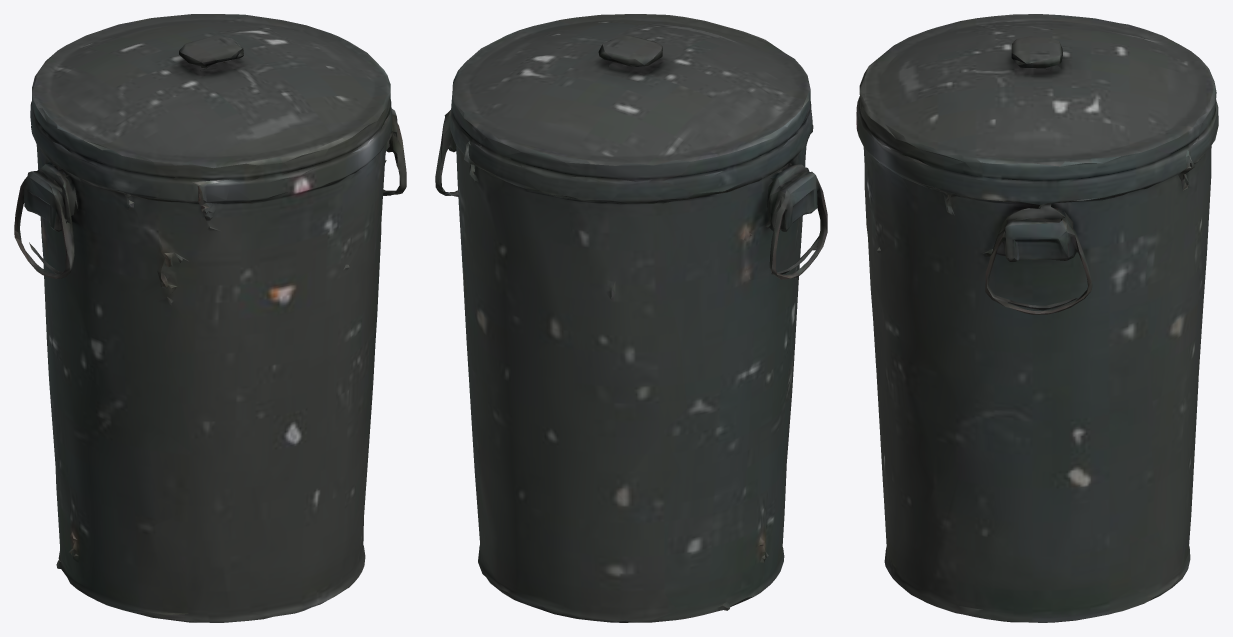
Rendered from street_trash_can.glb.
3 views of the same model, side by side, from view 1: azimuth 30°, elevation 25°; view 2: azimuth 150°, elevation 25°; view 3: azimuth 270°, elevation 25° (orthographic).
Parts seen in each view (by area): view 1: turn; view 2: turn; view 3: turn.
Part boxes in pixels (x1,y1,x2,y2): turn: (14,14,406,622); turn: (435,14,827,622); turn: (856,14,1218,622).
Size of the model in its own units: 0.7046 by 1 by 0.6407.
Materials: 1 (1 with a texture image).
